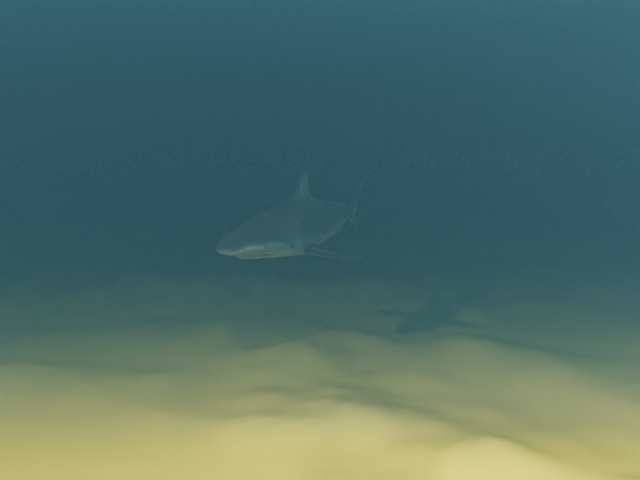Carribean Shark.001: (216, 159, 380, 262)
